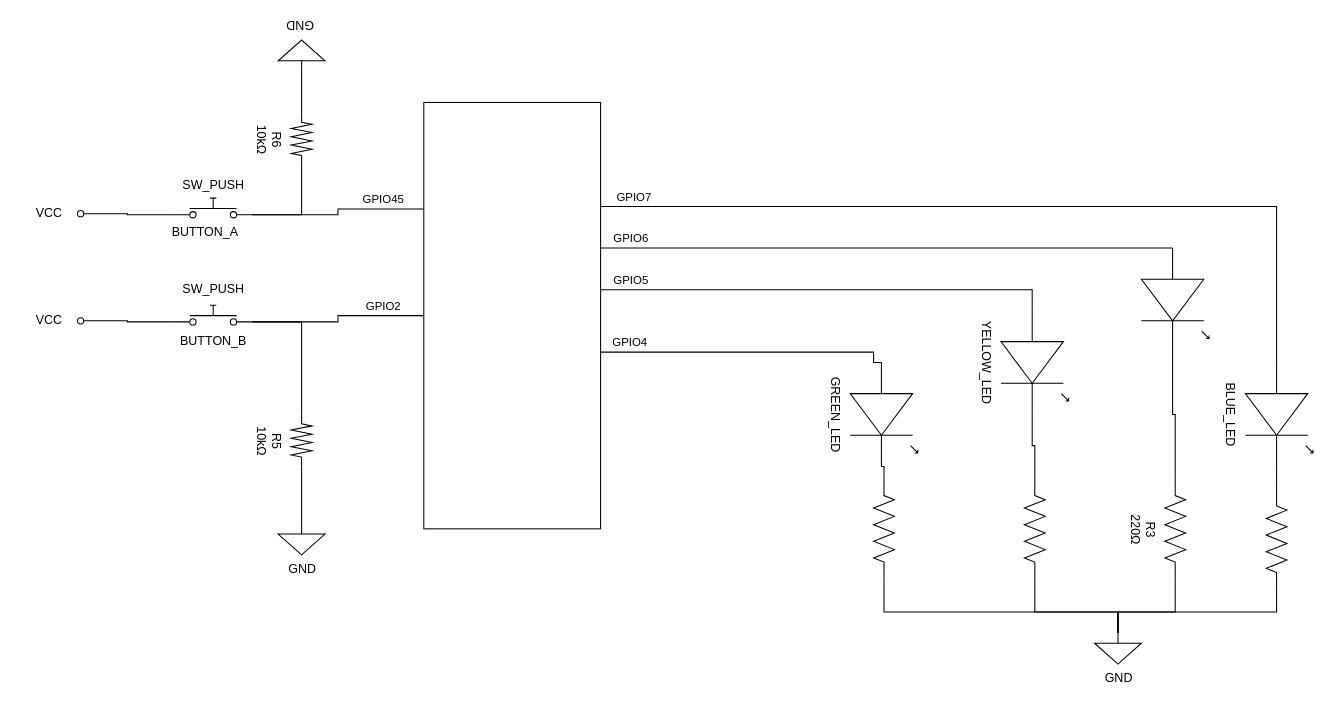
Some shapes in this 1331 by 703 pixel diagram are drawn without their labels. Here are the shapes that lost their labels. From the top down, the box of each, then its label:
(423, 101, 601, 529): ESP32-S3
(1140, 247, 1209, 352): RED_LED
(873, 476, 894, 581): R1 220Ω
(1023, 476, 1045, 581): R2 220Ω
(1265, 486, 1287, 591): R4 220Ω
